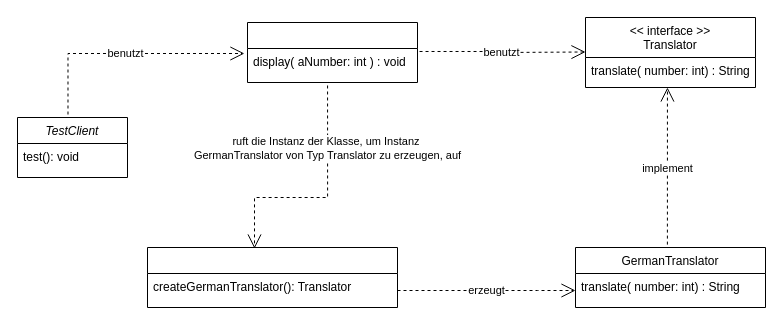
This 783x328 diagram has some shape labels left out. The shapes that lost their labels are listed below. From the top down, each one's box as (x1, y1, x2, y2) in pixels, then its label:
(246, 22, 418, 82): Client
(146, 246, 398, 308): TranslatorFactory
